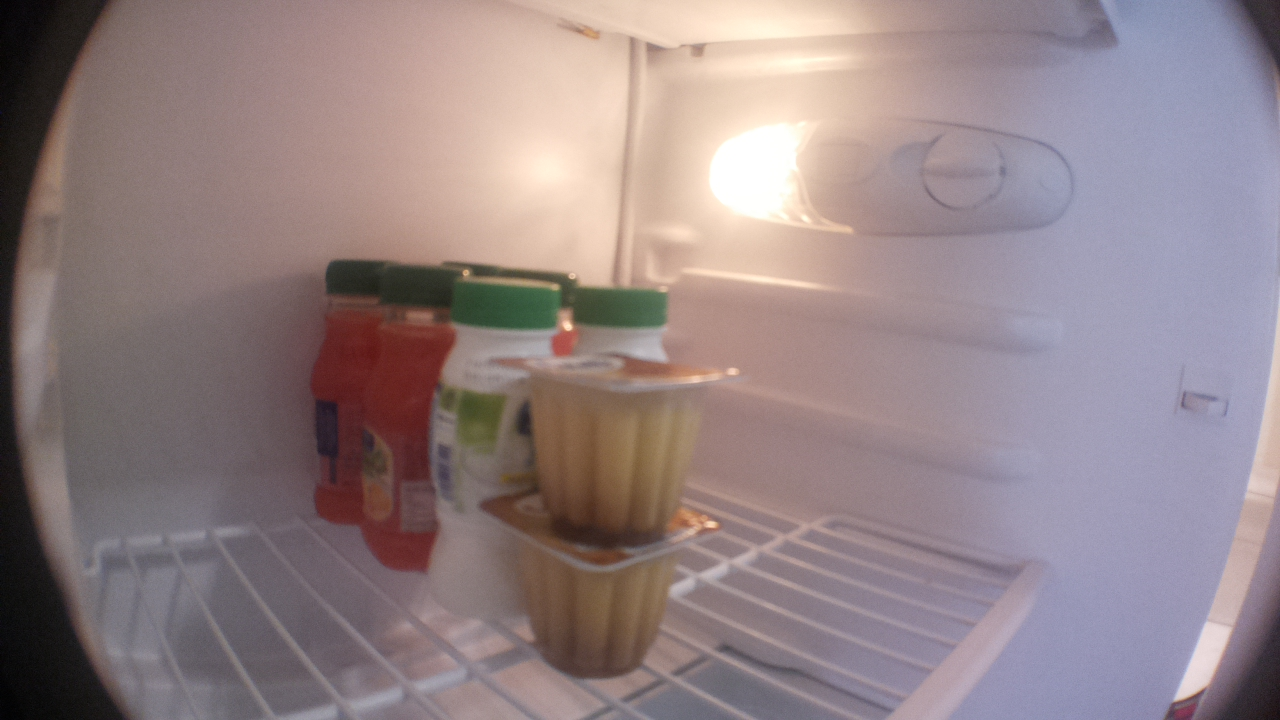caramel: (469, 347, 745, 548), (475, 476, 721, 685)
juice: (355, 257, 464, 575), (309, 237, 387, 534), (549, 269, 580, 362)
laban: (422, 277, 560, 622), (571, 277, 673, 365)
